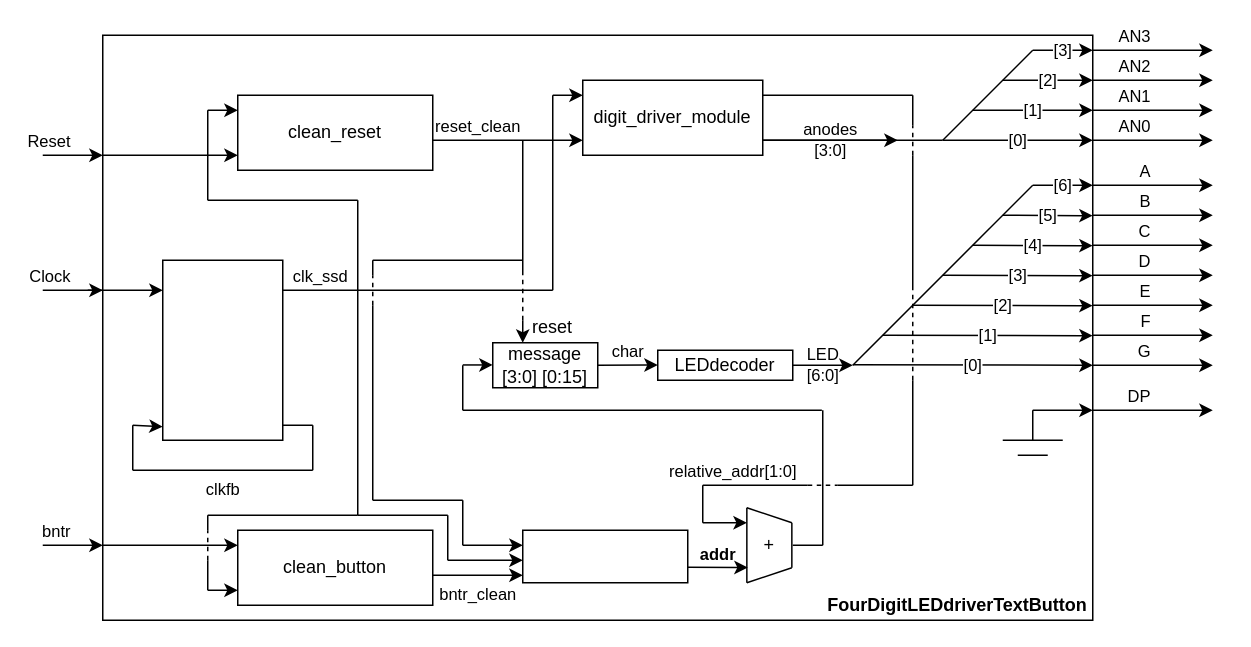
This 1251x647 diagram has some shape labels left out. The box of each missing label's shape, as (x1, y1, x2, y2) in pixels:
MMCME2: (161, 259, 283, 440)
scroll_bnt_module: (521, 529, 688, 583)
